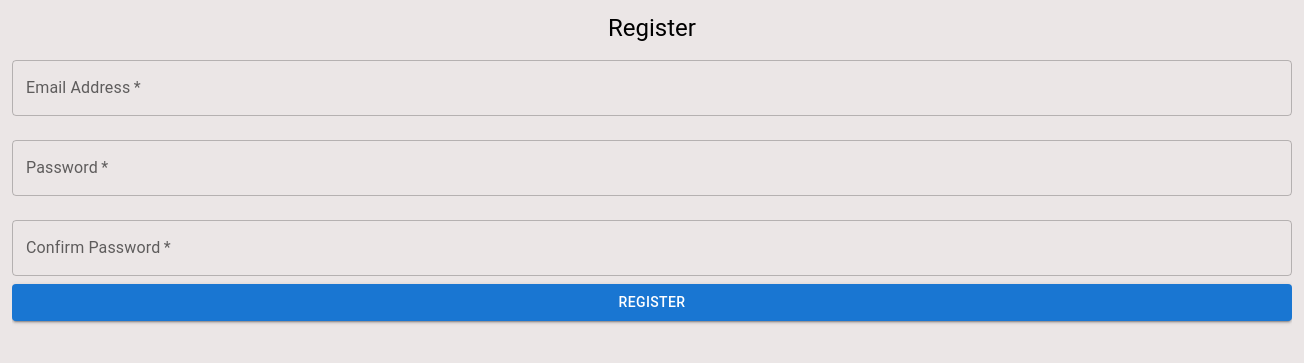
RegistrationFormFields › validates the email format
The image size is (1304, 363).
In the field labelled "Email Address *": (652, 88) [12,60,1292,116], type "invalid-email"
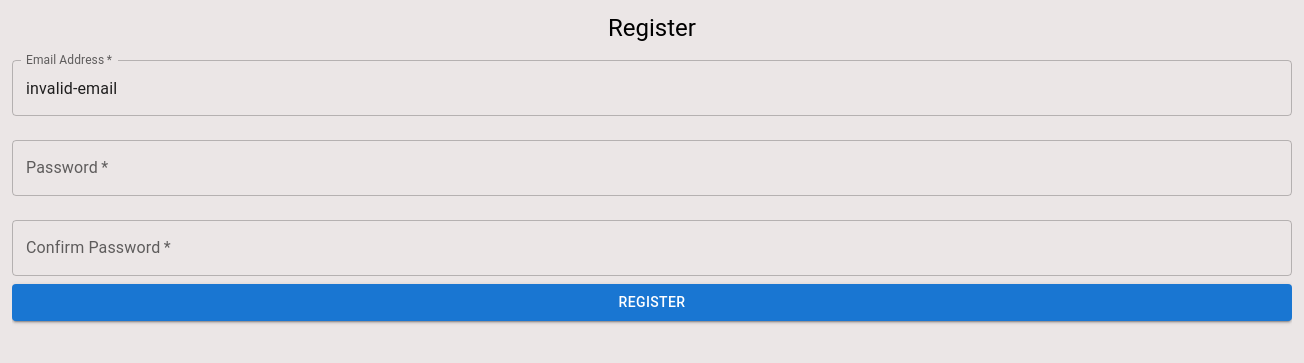
In the password field labelled "Password *": (652, 168) [12,140,1292,196], type "test12"
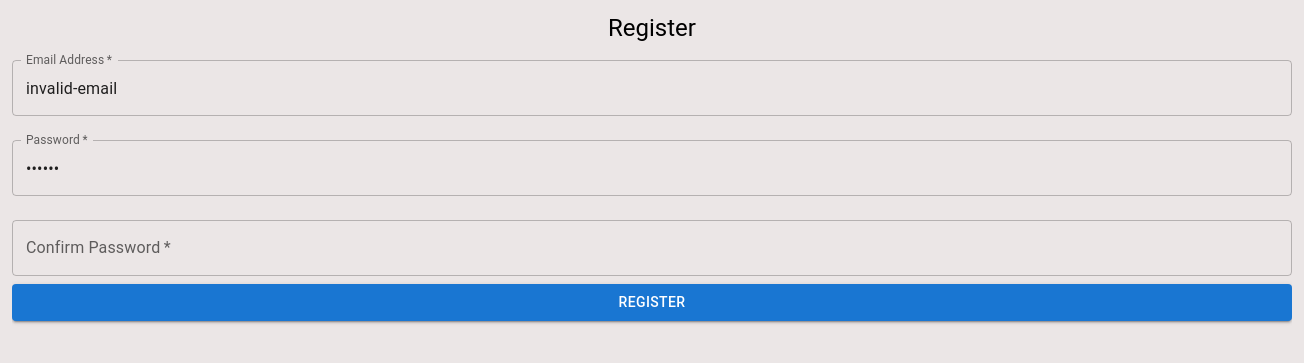
In the password field labelled "Confirm Password *": (652, 248) [12,220,1292,276], type "testy12"
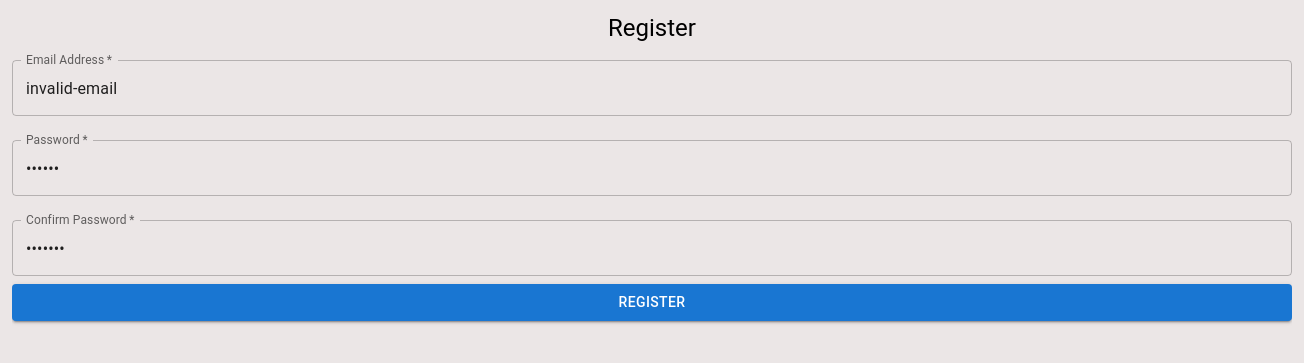
Click the button with test id "register-button": (652, 302) [12,284,1292,320]
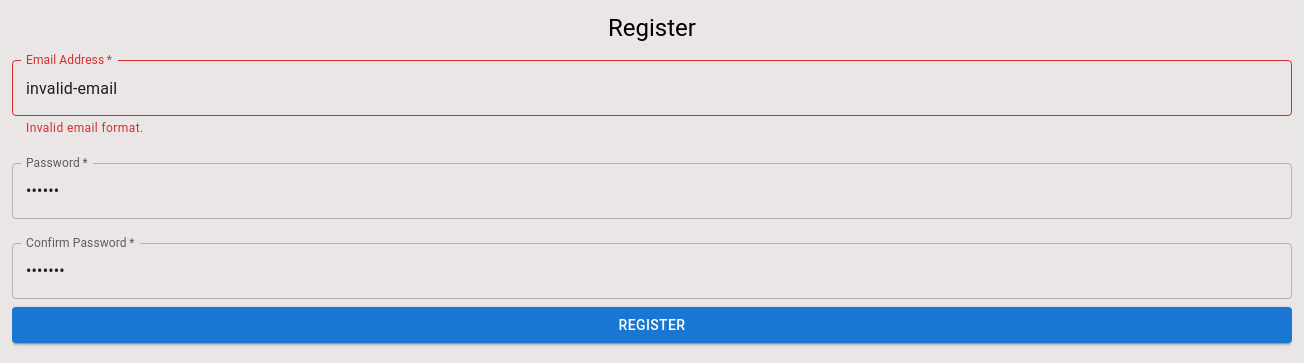
Result: the text "Invalid email format." is shown at [26,121,144,135]
